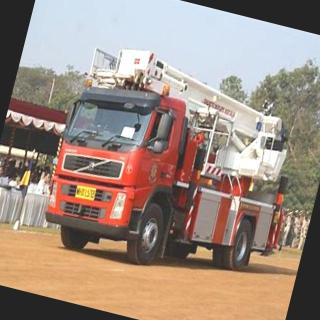Fire_truck: (34, 34, 316, 297)
